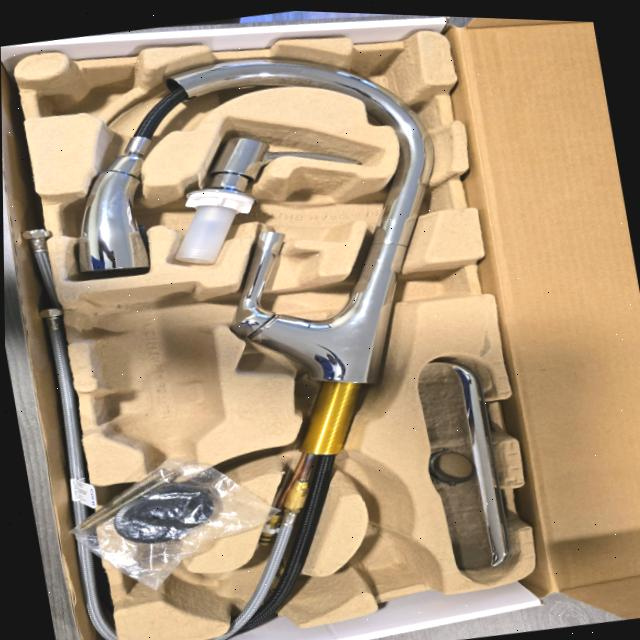1: (78, 60, 433, 638)
2: (171, 135, 365, 268)
3m: (81, 283, 224, 475)
4: (416, 361, 506, 571)
5m: (352, 528, 422, 583)
6m: (122, 550, 221, 614)
7: (64, 458, 282, 592)
